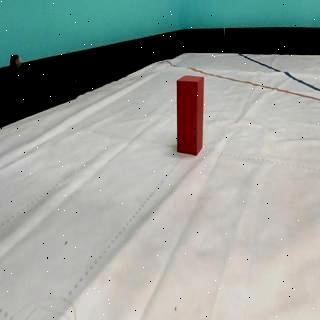redbox: (175, 74, 204, 156)
